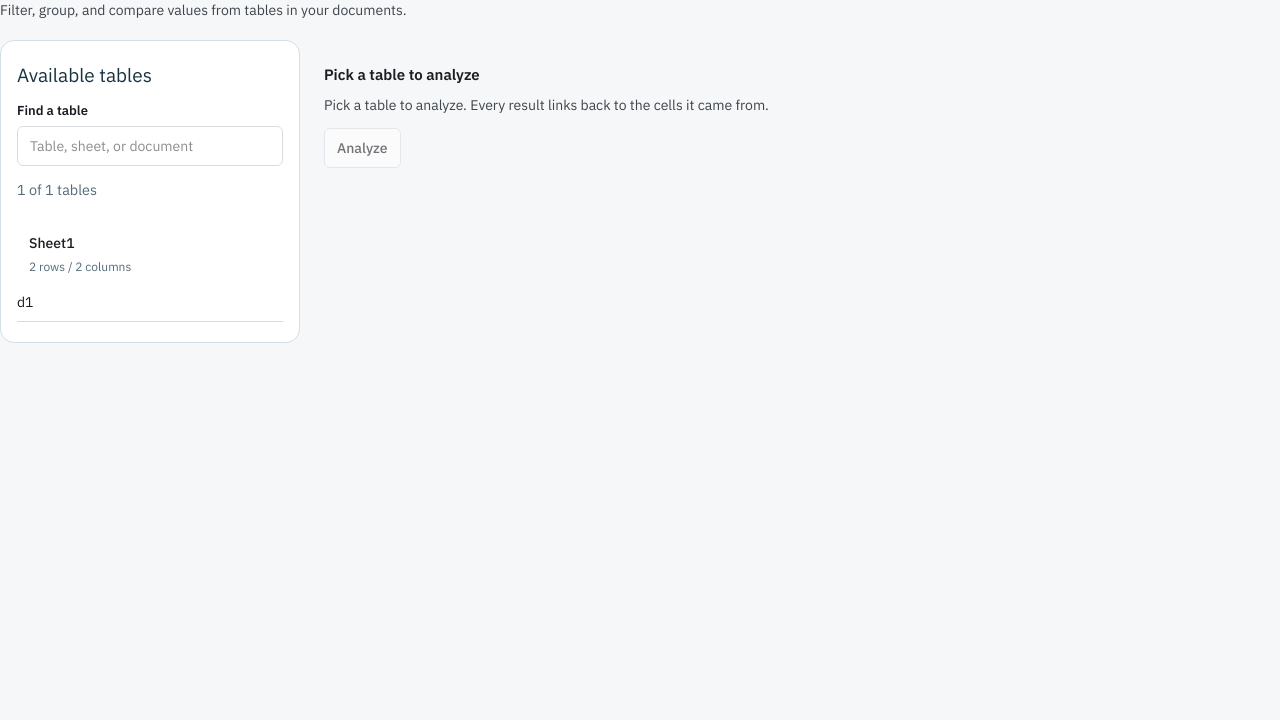
TablesApp source_ranges › renders deterministic source_ranges and no client total or export
Click the button "Sheet1 2 rows / 2 columns": (52, 243) [17,220,283,288]
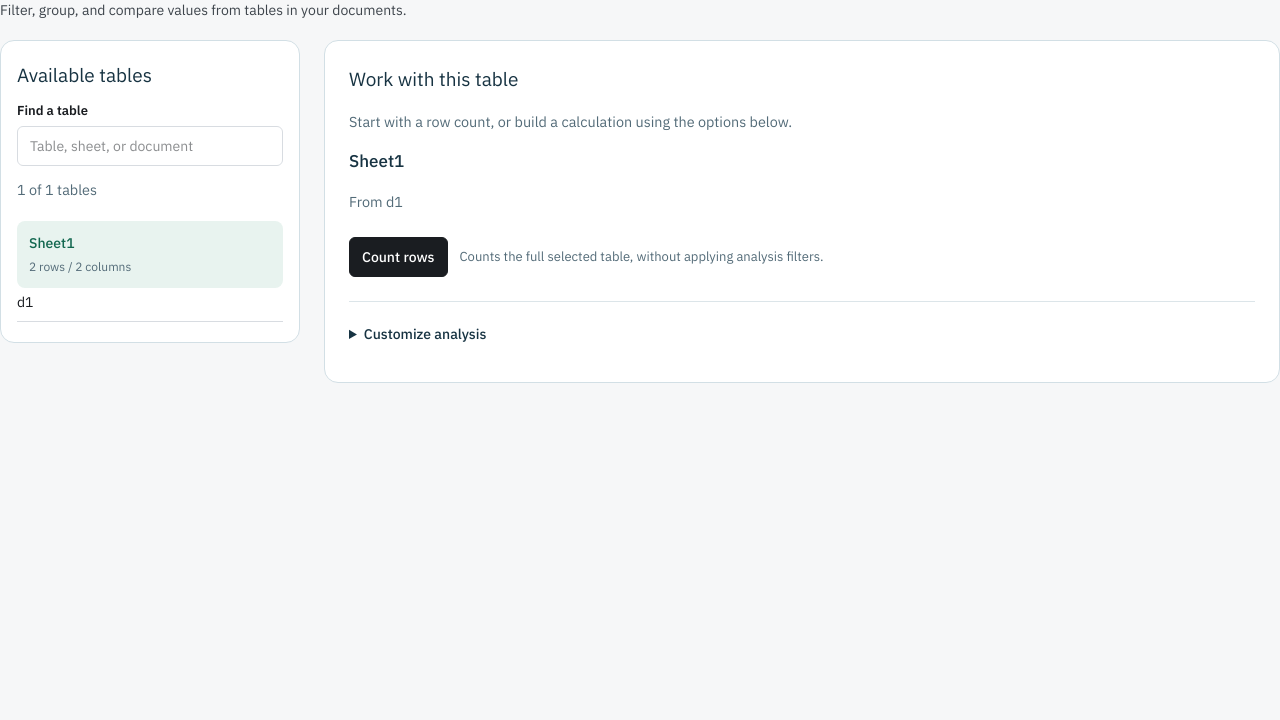
Click the heading "Customize analysis": (425, 334) [364,325,486,343]
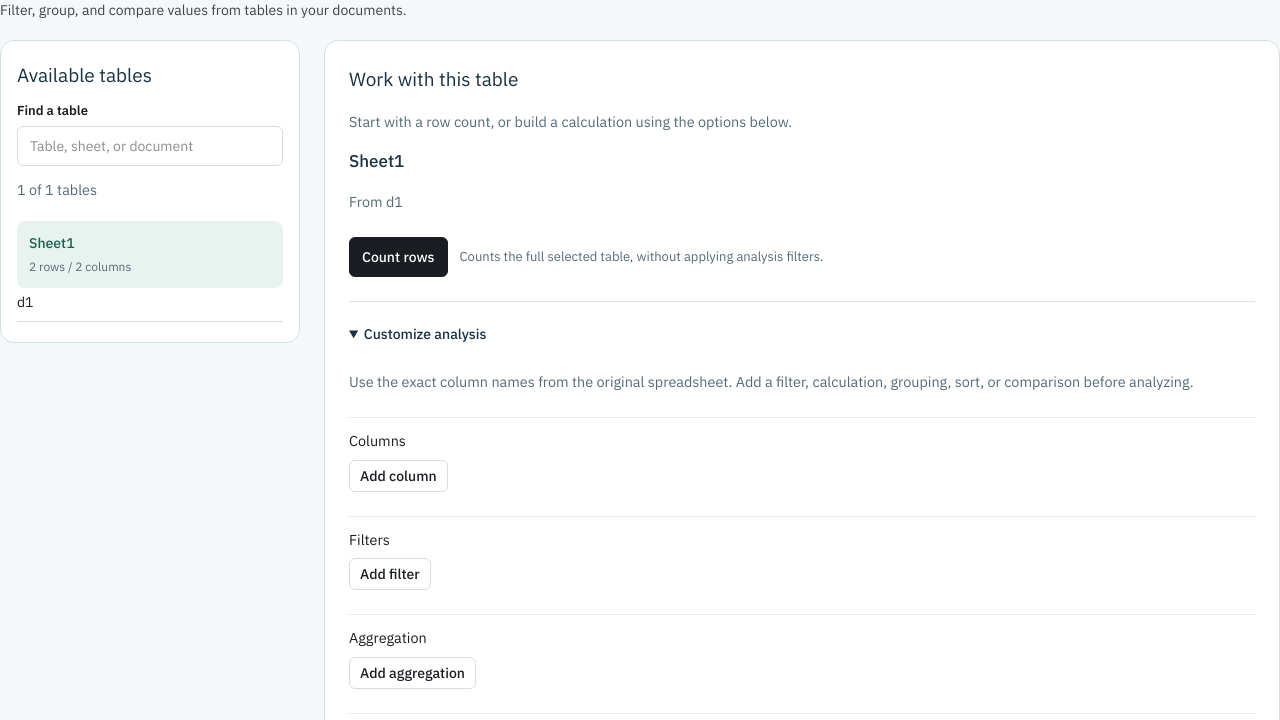
Click the button "Add filter": (390, 574) [349,558,431,590]
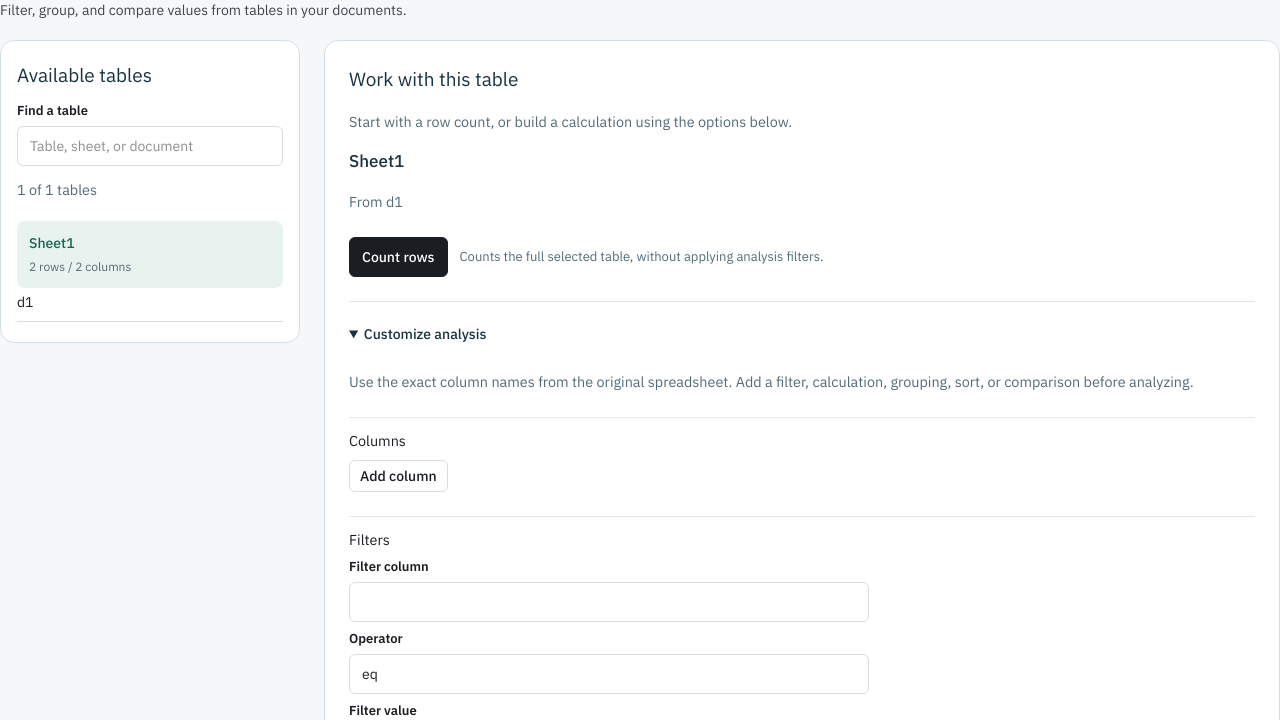
In the field labelled "Filter column": (609, 602) [349,582,869,622], type "amount"
(page scrolled)
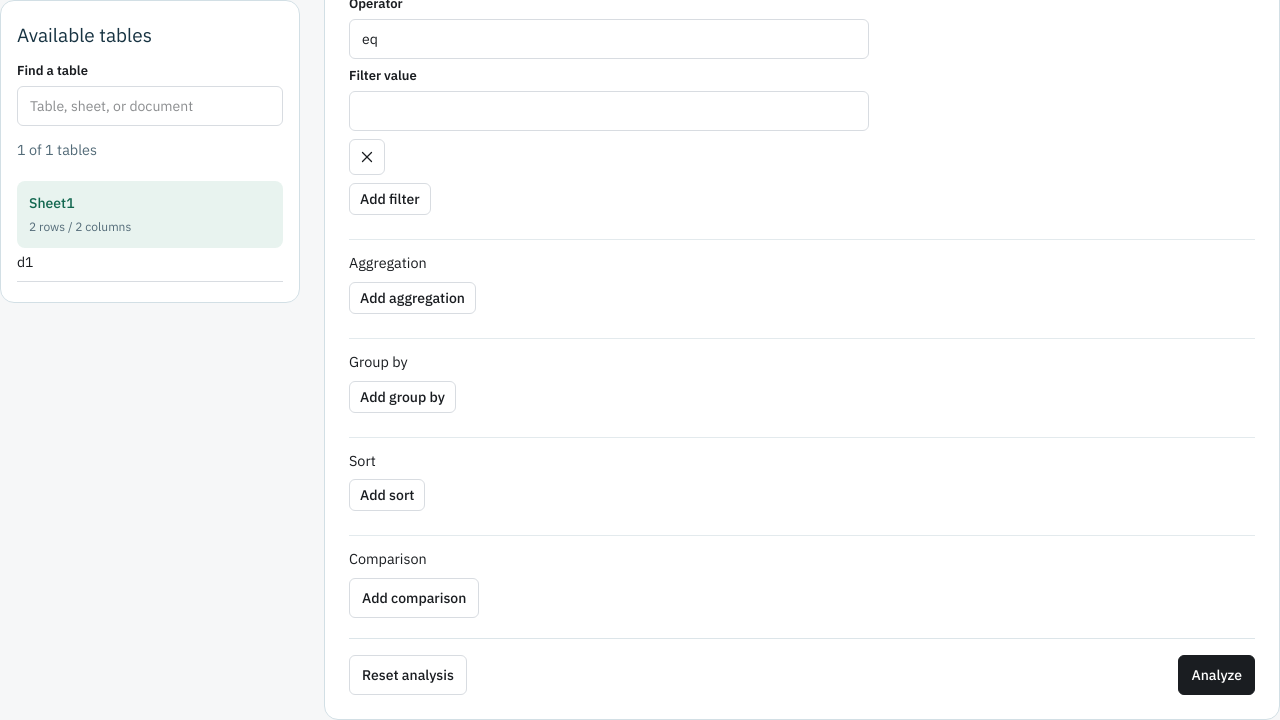
Click the button "Analyze": (1217, 675) [1178,655,1255,695]
(page scrolled)
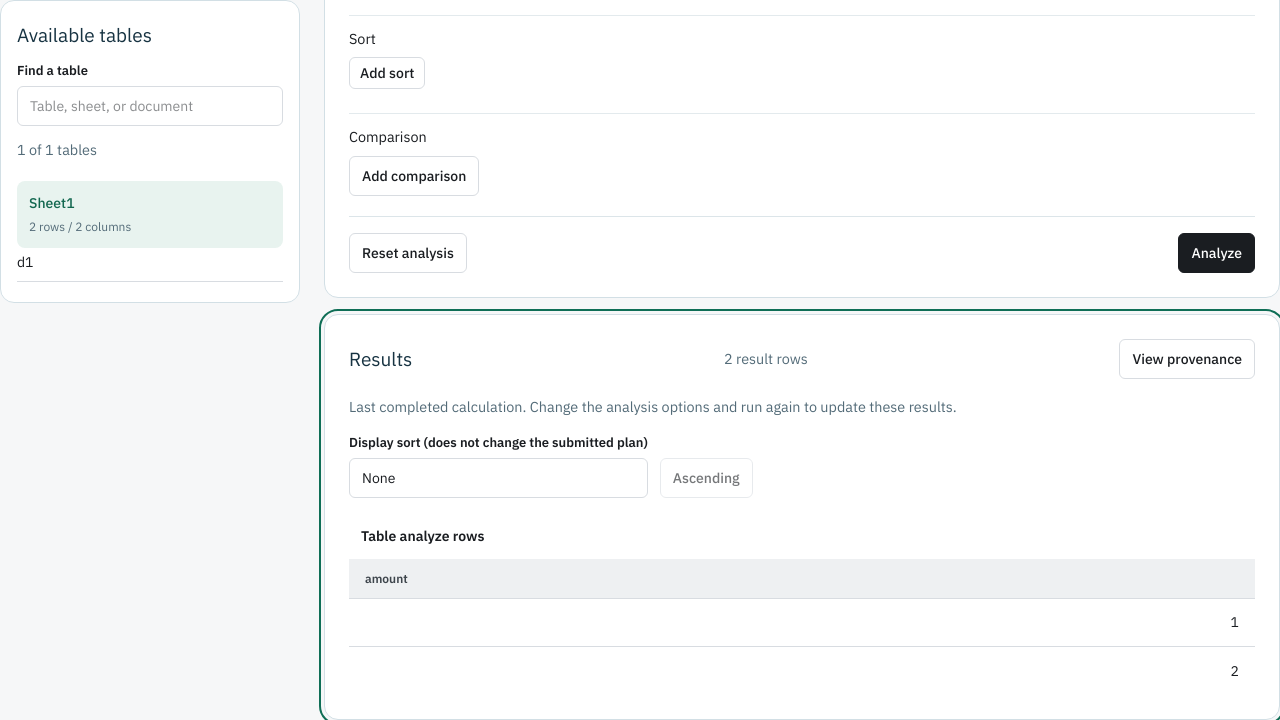
Click the button "View provenance": (1187, 359) [1119,339,1255,379]
(page scrolled)
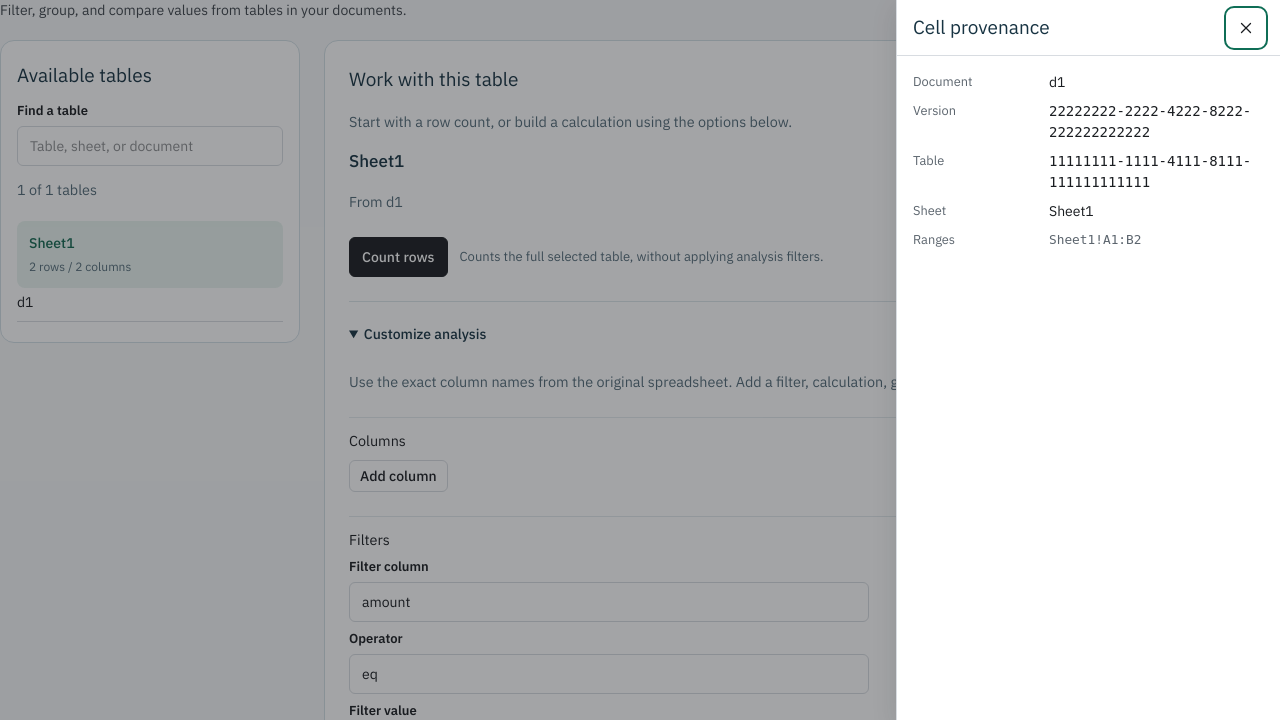
expect the text "Sheet1!A1:B2" is shown: met, box [1049,232,1142,247]
